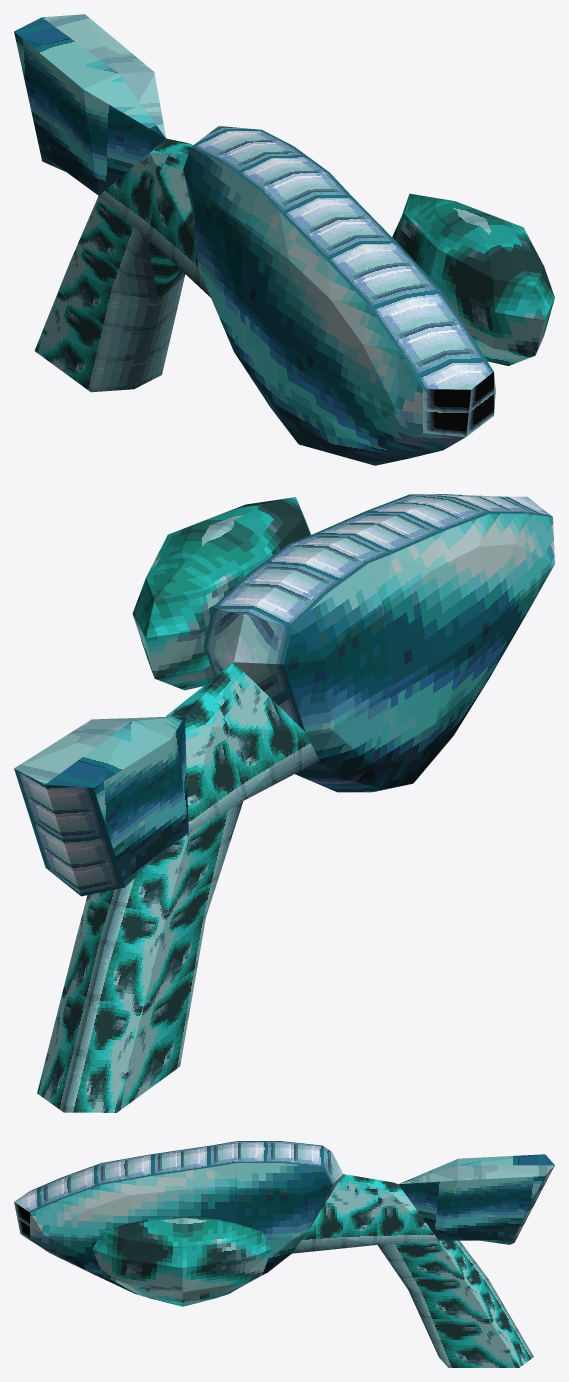
Rendered from Gun0007.obj.
The picture shows the model from 3 angles, top to bottom: view 1: azimuth 30°, elevation 25°; view 2: azimuth 150°, elevation 25°; view 3: azimuth 270°, elevation 25°; orthographic projection. The views are drawn at different scales.
Parts seen in each view (by area): view 1: Room01_primary, Room05_primary; view 2: Room01_primary, Room05_primary; view 3: Room01_primary, Room05_primary.
Boxes of the visible parts, x1=… form: Room01_primary: x1=14, y1=14, x2=495, y2=465; Room05_primary: x1=392, y1=193, x2=554, y2=365; Room01_primary: x1=14, y1=494, x2=554, y2=1112; Room05_primary: x1=132, y1=497, x2=310, y2=690; Room01_primary: x1=14, y1=1141, x2=554, y2=1367; Room05_primary: x1=92, y1=1216, x2=271, y2=1306.
Size of the model in its own units: 117 by 143 by 335.
Materials: 15 (15 with a texture image).
